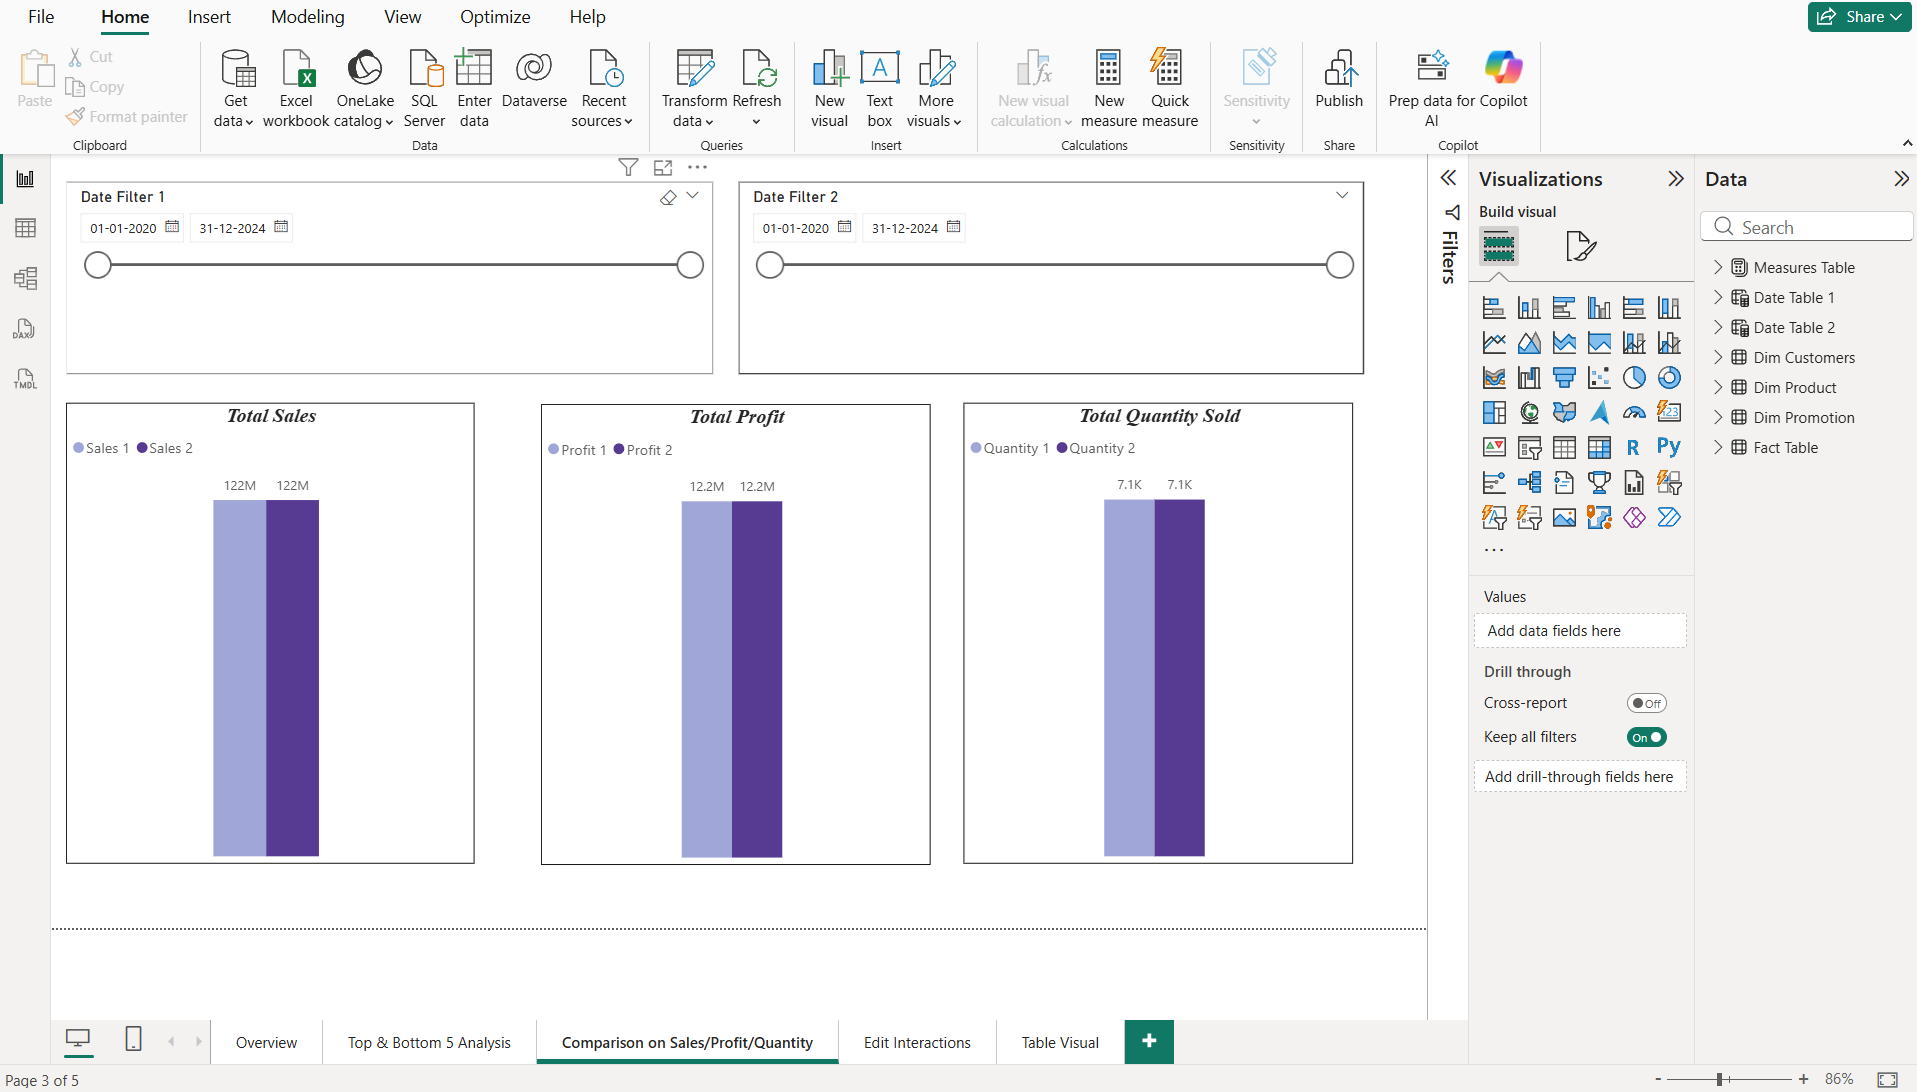

What the dashboard file says about the page in this screenshot:
{"tool":"powerbi","page":{"name":"Comparison on Sales/Profit/Quantity","canvas":[1280,720],"ordinal":2},"visuals":[{"type":"slicer","fields":{"Values":["Date Table 1.Date"]},"box":[14,25.6,602.3,179.1],"z":0},{"type":"slicer","fields":{"Values":["Date Table 2.Date"]},"box":[639.5,25.6,581.4,179.1],"z":1000},{"type":"clusteredColumnChart","title":"Total Sales","fields":{"Y":["Sum(Fact Table.Net Sales)","Date Table 1.Sum of Net Sales"]},"box":[14,231.4,380.2,429.1],"z":2000},{"type":"clusteredColumnChart","title":"Total Profit","fields":{"Y":["Sum(Fact Table.Profit)","Measures Table.Total Profit"]},"box":[455.8,232.6,362.8,429.1],"z":3000},{"type":"clusteredColumnChart","title":"Total Quantity Sold","fields":{"Y":["Sum(Fact Table.Units Sold)","Measures Table.Quantity Sold"]},"box":[848.8,231.4,362.8,429.1],"z":4000}]}

Visuals, with their boxes on the page's 1280x720 design canvas (x1, y1, x2, y2). These are canvas units, not pixel positions in the 1917x1092 screenshot, which may show the page scaled, cropped or inside an application window:
slicer - Date Table 1.Date: locate(14, 26, 616, 205)
slicer - Date Table 2.Date: locate(640, 26, 1221, 205)
"Total Sales" clusteredColumnChart: locate(14, 231, 394, 660)
"Total Profit" clusteredColumnChart: locate(456, 233, 819, 662)
"Total Quantity Sold" clusteredColumnChart: locate(849, 231, 1212, 660)
